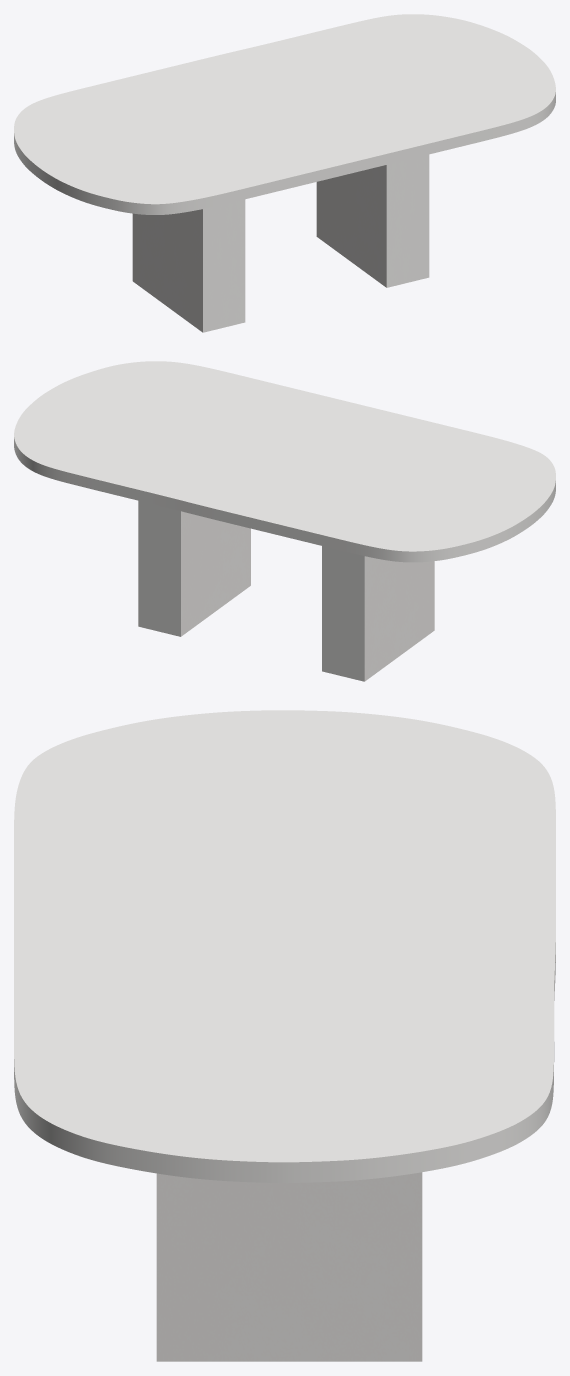
Rendered from purewhite_oval_standard_ridge.glb.
3 renders of one model, top to bottom at view 1: azimuth 30°, elevation 25°; view 2: azimuth 150°, elevation 25°; view 3: azimuth 270°, elevation 25°, orthographic. The views are drawn at different scales.
Parts seen in each view (by area): view 1: standard_oval, ridge; view 2: standard_oval, ridge; view 3: standard_oval, ridge.
Boxes of the visible parts, x1,y1,x2,y2 form: standard_oval: (14, 14, 555, 214); ridge: (132, 154, 429, 332); standard_oval: (14, 361, 555, 562); ridge: (138, 500, 434, 681); standard_oval: (14, 710, 555, 1182); ridge: (156, 1172, 422, 1361).
Bounding box in the file's own units: 7.5 × 2.5 × 3.8.
1 material, 1 textured.
